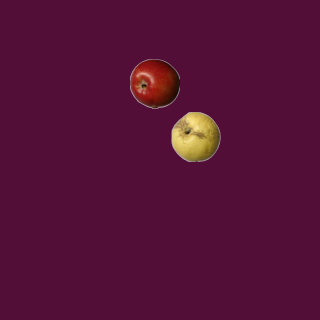Apple Braeburn: (129, 58, 179, 108)
Apple Golden 1: (170, 111, 220, 161)
